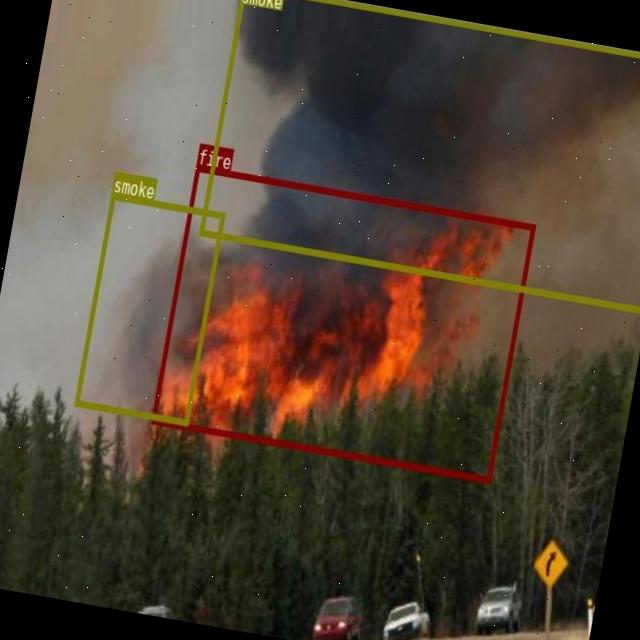fire: (151, 162, 534, 481)
smoke: (198, 0, 640, 310), (74, 192, 224, 426)
